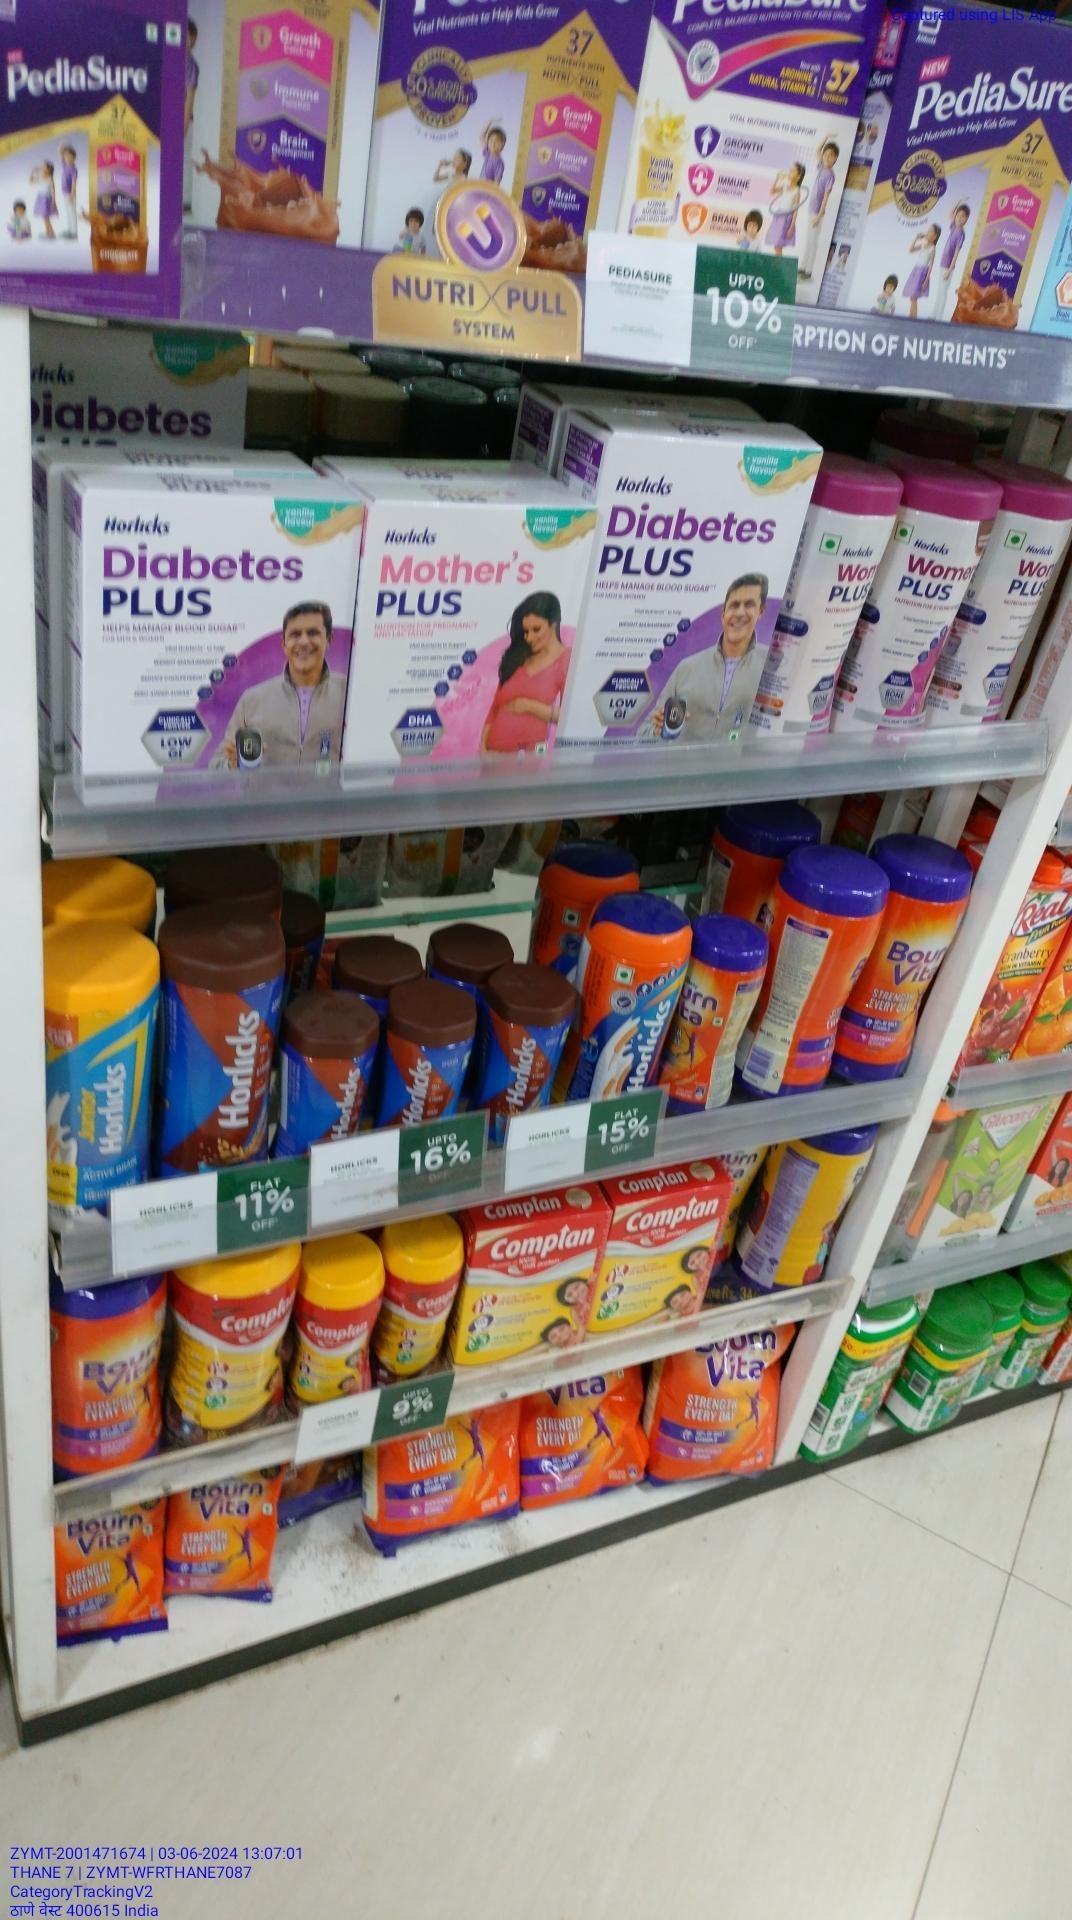BOURN_VITA_500_G_JAR: (860, 836, 963, 1081), (51, 1284, 166, 1484)
COMPLAN_CHOCOLATE_200_GMS_JAR: (303, 1236, 381, 1407), (384, 1218, 462, 1382)
COMPLAN_CHOCOLATE_500_GMS_JAR: (174, 1258, 295, 1441)
HORLICKS_JUNIOR_VANILLA_500_GM_JAR: (47, 924, 153, 1211)
HORLICK_CHOCOLATE_200_G_JAR: (276, 992, 377, 1150), (487, 963, 571, 1117), (388, 982, 476, 1126)
HORLICK_CLASSIC_MALT_500_G_JAR: (165, 919, 266, 1172), (578, 891, 678, 1095)
PEDIASURE_CHOCOLATE_500_G_PACK: (382, 0, 630, 269), (870, 12, 1065, 332)
